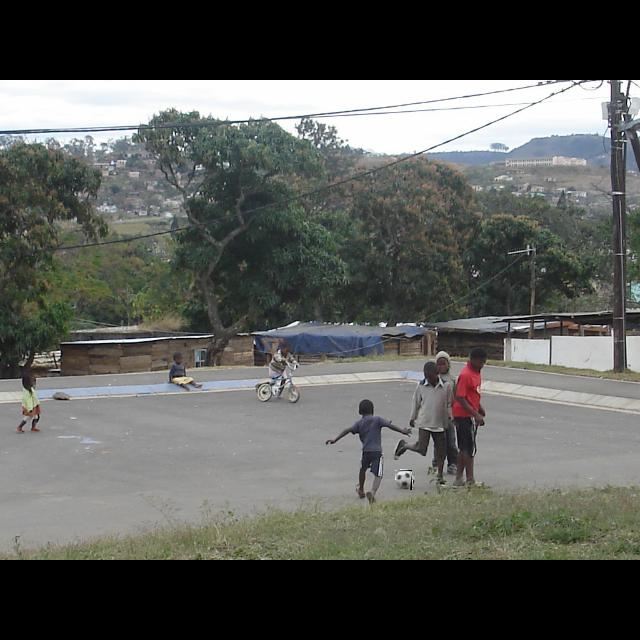Football: (396, 470, 412, 490)
